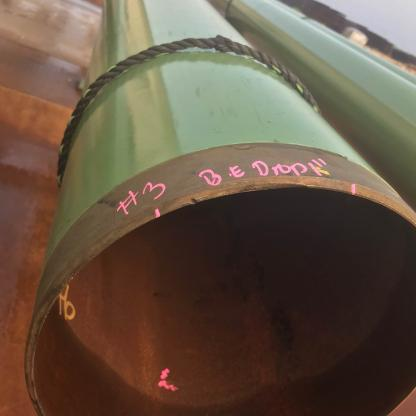Bevel: (236, 182, 315, 195), (186, 195, 202, 205)
